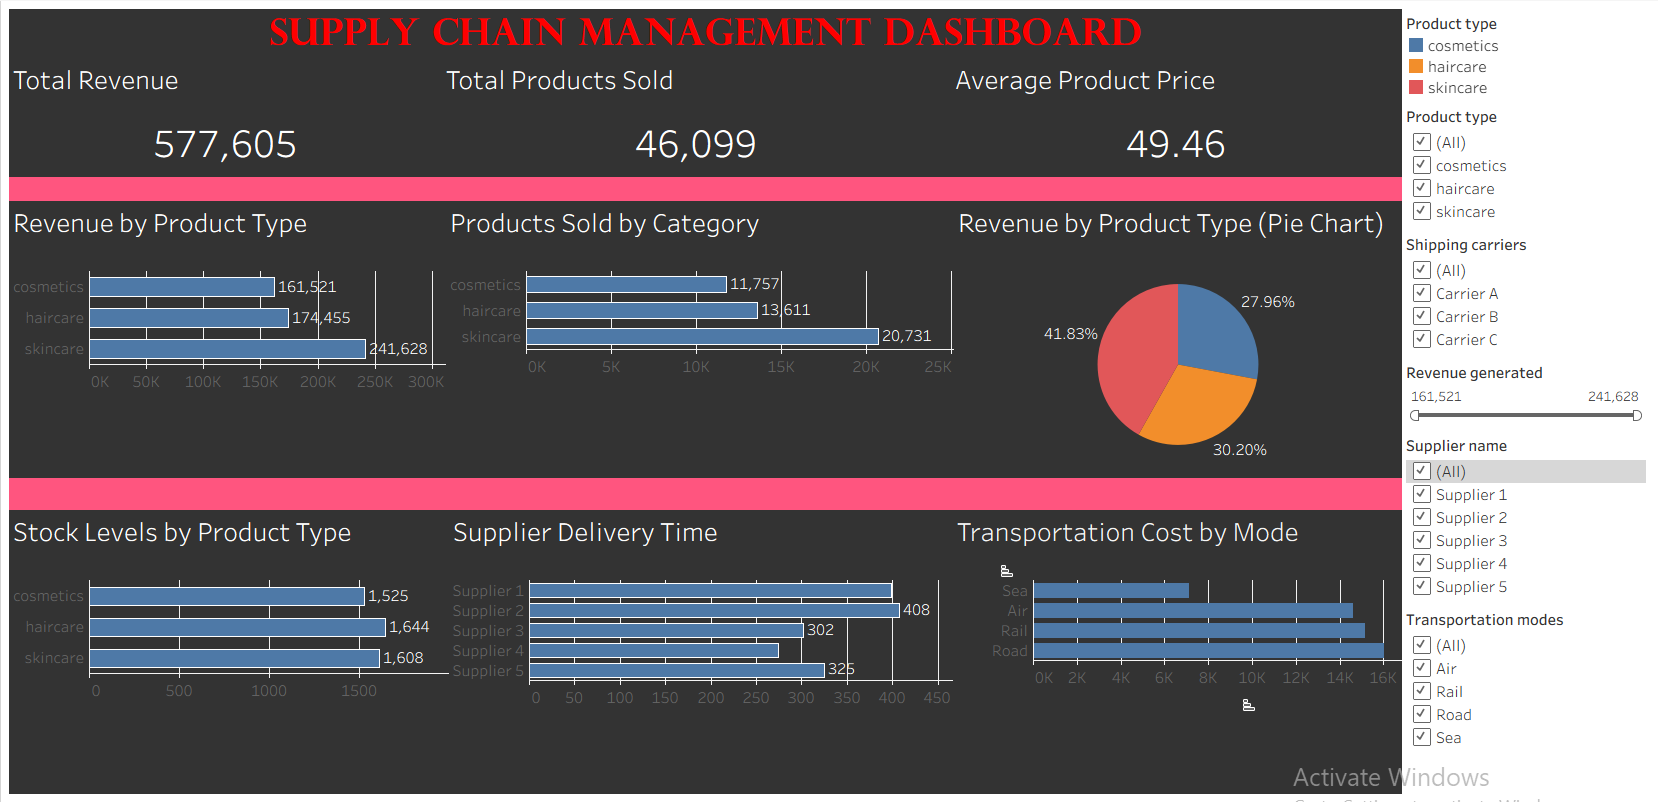

The dashboard page shown, as its layout file describes it:
{"tool":"tableau","page":{"name":"Supply Chain Management Dashboard","canvas":[1000,1000],"units":"permille","ordinal":0},"visuals":[{"type":"text","box":[4.8,10,840.7,61.2]},{"type":"legend","title":"Revenue by Product Type (Pie Chart)","param":"[federated.1qse76u1sn13xl1gxt14s1qsjwqt].[none:Product type:nk]","box":[845.5,10,149.7,116.1]},{"type":"worksheet","title":"Total Revenue","mark":"Automatic","box":[4.8,71.2,261.3,148.6]},{"type":"worksheet","title":"Total Products Sold","mark":"Automatic","box":[266.1,71.2,307.2,148.6]},{"type":"worksheet","title":"Average Product Price","mark":"Automatic","box":[573.3,71.2,272.2,148.6]},{"type":"filter","title":"Revenue by Product Type","param":"[federated.1qse76u1sn13xl1gxt14s1qsjwqt].[none:Product type:nk]","box":[845.5,126.1,149.7,159.8]},{"type":"blank","box":[4.8,219.7,840.7,30]},{"type":"worksheet","title":"Revenue by Product Type","mark":"Bar","rows":["Product type"],"cols":["Revenue generated"],"box":[4.8,249.7,263.7,345.8]},{"type":"worksheet","title":"Products Sold by Category","mark":"Bar","rows":["Product type"],"cols":["Number of products sold"],"box":[268.6,249.7,306.6,345.8]},{"type":"worksheet","title":"Revenue by Product Type (Pie Chart)","mark":"Pie","box":[575.1,249.7,270.4,345.8]},{"type":"filter","title":"Revenue by Product Type","param":"[federated.1qse76u1sn13xl1gxt14s1qsjwqt].[none:Shipping carriers:nk]","box":[845.5,285.9,149.7,159.8]},{"type":"filter","title":"Revenue by Product Type","param":"[federated.1qse76u1sn13xl1gxt14s1qsjwqt].[sum:Revenue generated:qk]","box":[845.5,445.7,149.7,91.1]},{"type":"filter","title":"Revenue by Product Type","param":"[federated.1qse76u1sn13xl1gxt14s1qsjwqt].[none:Supplier name:nk]","box":[845.5,536.8,149.7,217.2]},{"type":"blank","box":[4.8,595.5,840.7,40]},{"type":"worksheet","title":"Stock Levels by Product Type","mark":"Bar","rows":["Product type"],"cols":["Stock levels"],"box":[4.8,635.5,265.5,354.6]},{"type":"worksheet","title":"Supplier Delivery Time","mark":"Bar","rows":["Supplier name"],"cols":["Lead time"],"box":[270.4,635.5,304.2,354.6]},{"type":"worksheet","title":"Transportation Cost by Mode","mark":"Bar","rows":["Transportation modes"],"cols":["Costs"],"box":[574.5,635.5,271,354.6]},{"type":"filter","title":"Revenue by Product Type","param":"[federated.1qse76u1sn13xl1gxt14s1qsjwqt].[none:Transportation modes:nk]","box":[845.5,754.1,149.7,188.5]}]}

Visuals, with their boxes on the dashboard's canvas, which has no fixed pixel size, in thousandths of its width and height (x1, y1, x2, y2). These are canvas units, not pixel positions in the 1658x802 screenshot, which may show the page scaled, cropped or inside an application window:
text: detection(5, 10, 846, 71)
"Revenue by Product Type (Pie Chart)" legend: detection(846, 10, 995, 126)
"Total Revenue" worksheet: detection(5, 71, 266, 220)
"Total Products Sold" worksheet: detection(266, 71, 573, 220)
"Average Product Price" worksheet: detection(573, 71, 846, 220)
"Revenue by Product Type" filter: detection(846, 126, 995, 286)
blank: detection(5, 220, 846, 250)
"Revenue by Product Type" worksheet (Bar marks): detection(5, 250, 268, 596)
"Products Sold by Category" worksheet (Bar marks): detection(269, 250, 575, 596)
"Revenue by Product Type (Pie Chart)" worksheet (Pie marks): detection(575, 250, 846, 596)
"Revenue by Product Type" filter: detection(846, 286, 995, 446)
"Revenue by Product Type" filter: detection(846, 446, 995, 537)
"Revenue by Product Type" filter: detection(846, 537, 995, 754)
blank: detection(5, 596, 846, 636)
"Stock Levels by Product Type" worksheet (Bar marks): detection(5, 636, 270, 990)
"Supplier Delivery Time" worksheet (Bar marks): detection(270, 636, 575, 990)
"Transportation Cost by Mode" worksheet (Bar marks): detection(574, 636, 846, 990)
"Revenue by Product Type" filter: detection(846, 754, 995, 943)
